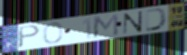1: (82, 17, 92, 40)
D: (144, 7, 169, 33)
M: (92, 13, 120, 39)
N: (122, 10, 144, 35)
O: (42, 21, 64, 45)
P: (16, 24, 42, 50)
